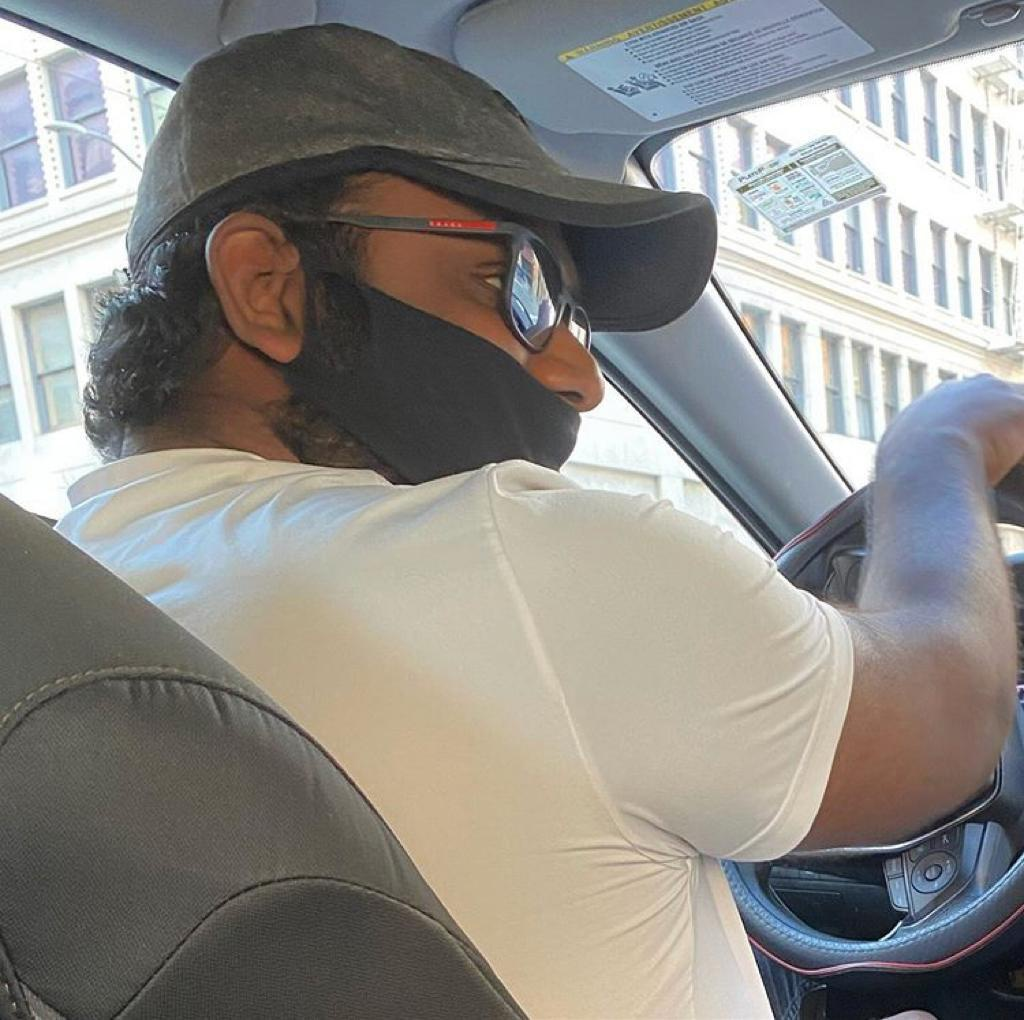nose: (527, 356, 605, 410)
